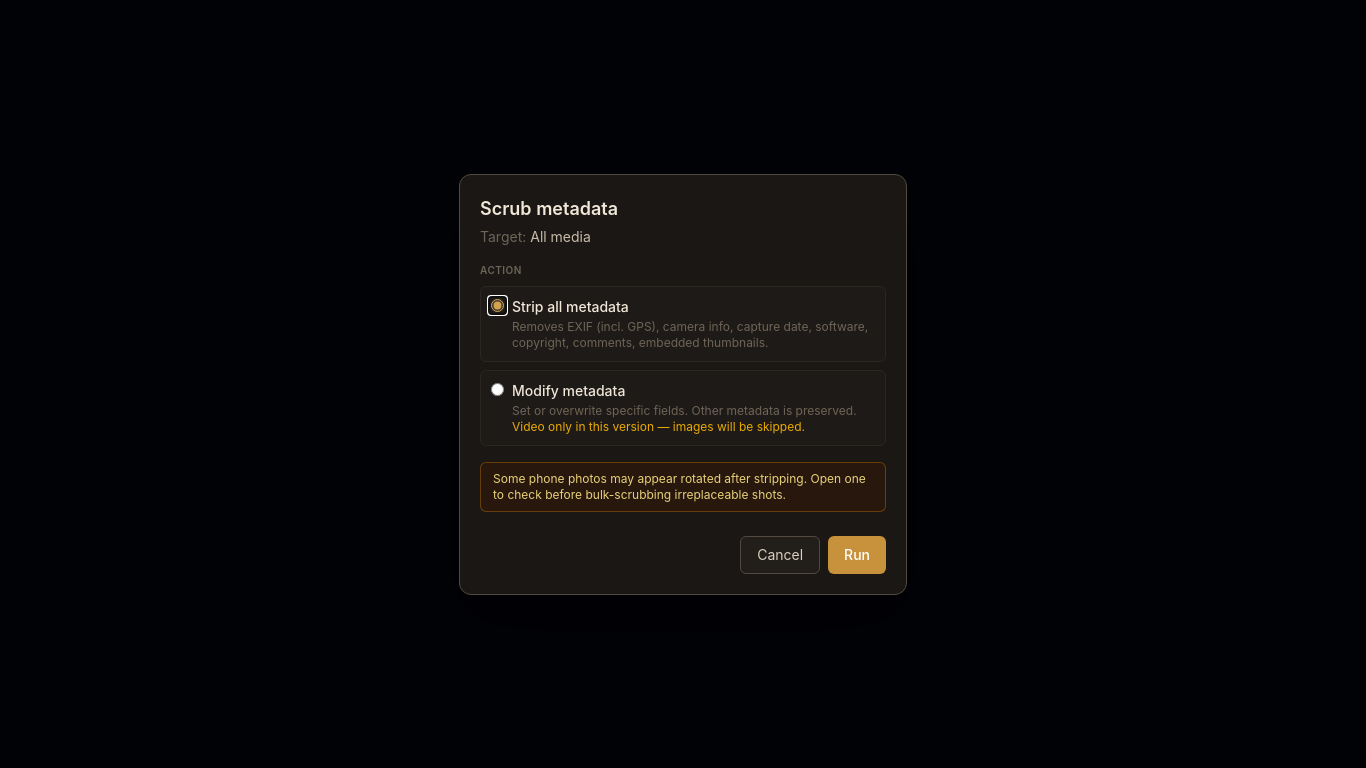
Test: ScrubMetadataModal › adds and removes fields; Remove is disabled when only one field remains
Click the radio button labelled "Modify metadata". click: (498, 389)
box: [491,382,504,396]
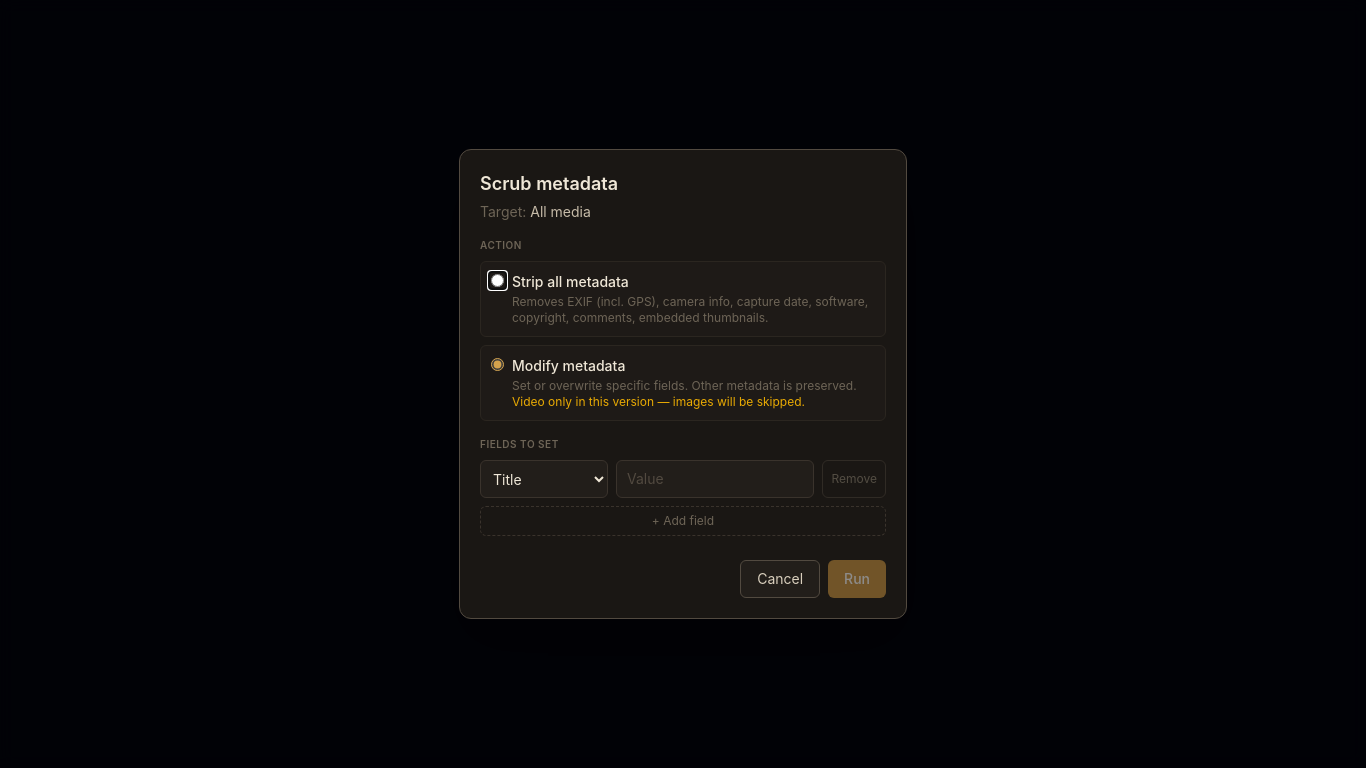
Expected: the button with aria-label "Remove field" is disabled, [822,460,886,498]
Click the button "+ Add field". click: (683, 521)
box: [480,506,886,536]
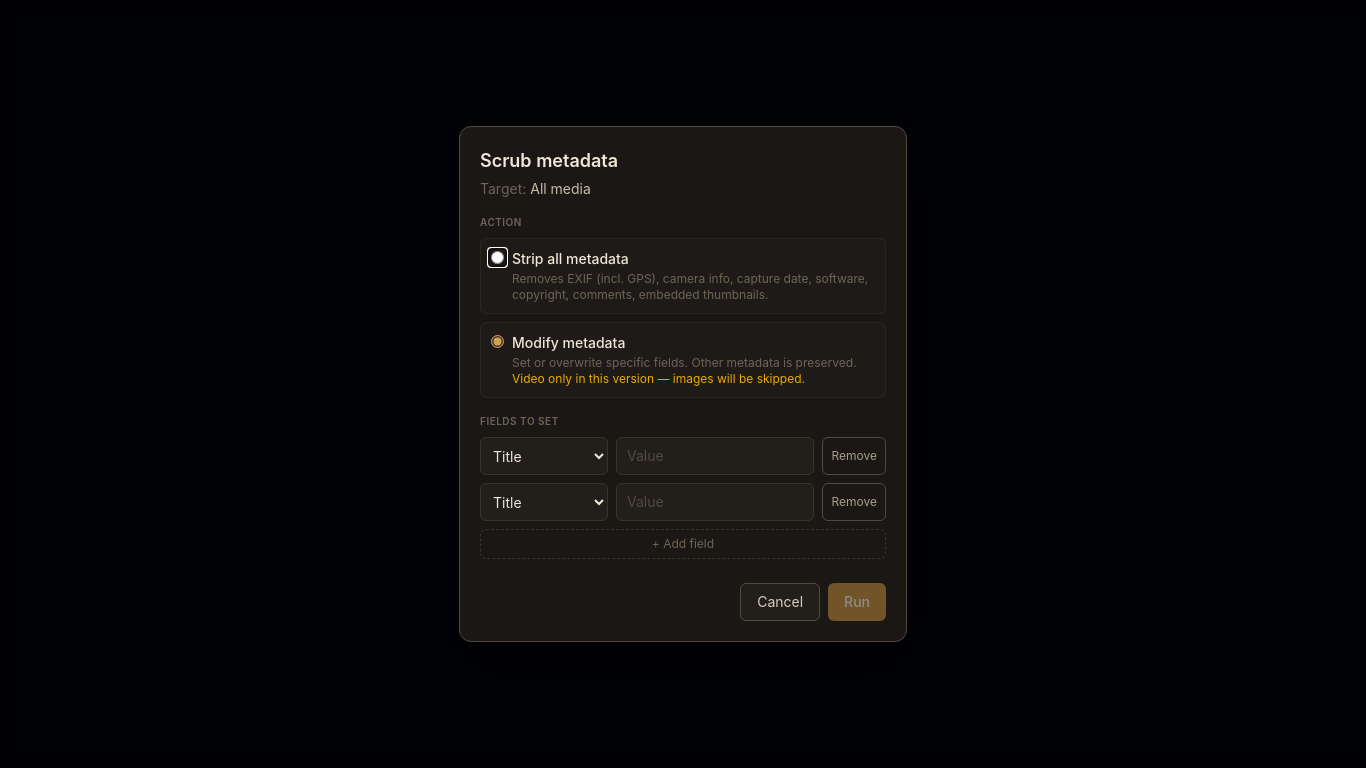
Expected: the number of fields with placeholder "Value" is 2, [616,437,814,475]; [616,483,814,521]
Expected: the button with aria-label "Remove field" is enabled
Click the button with aria-label "Remove field". click: (854, 456)
box: [822,437,886,475]
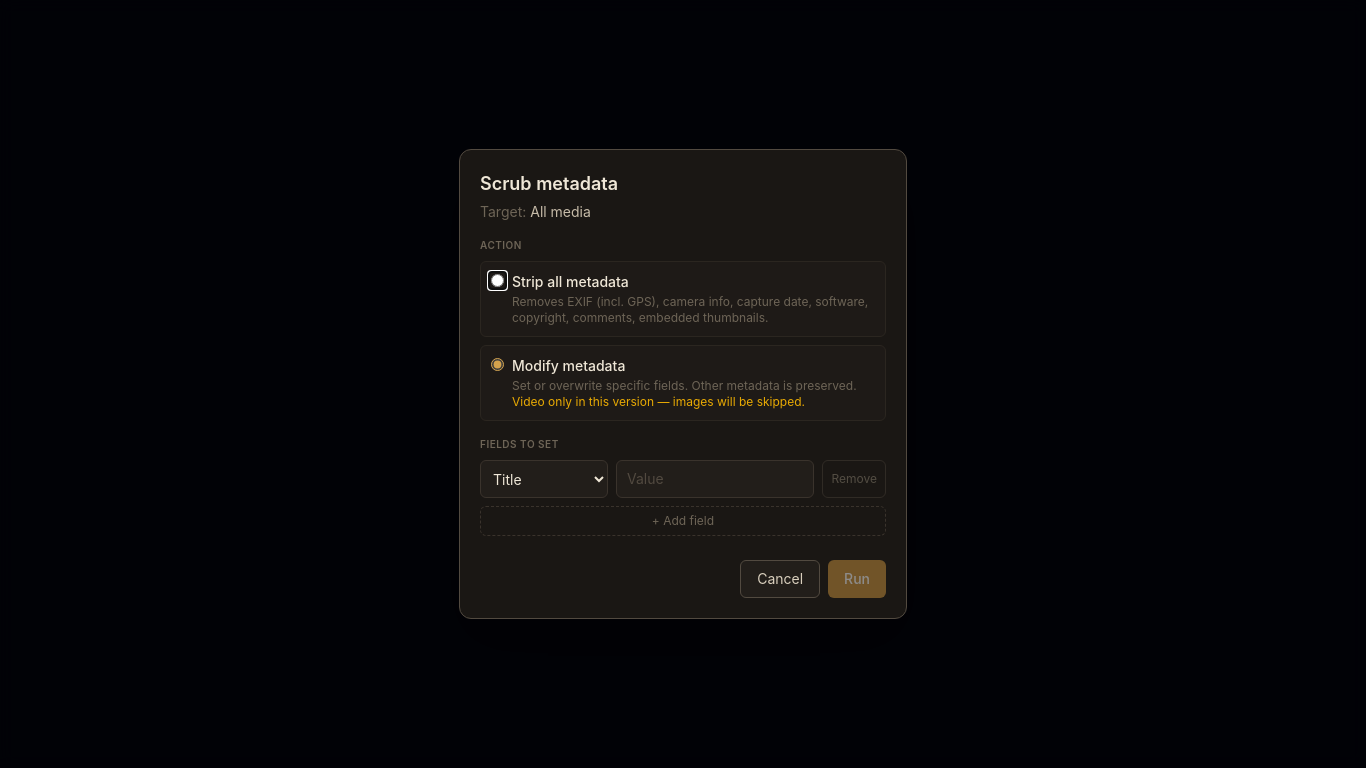
Expected: the number of fields with placeholder "Value" is 1, [616,460,814,498]
